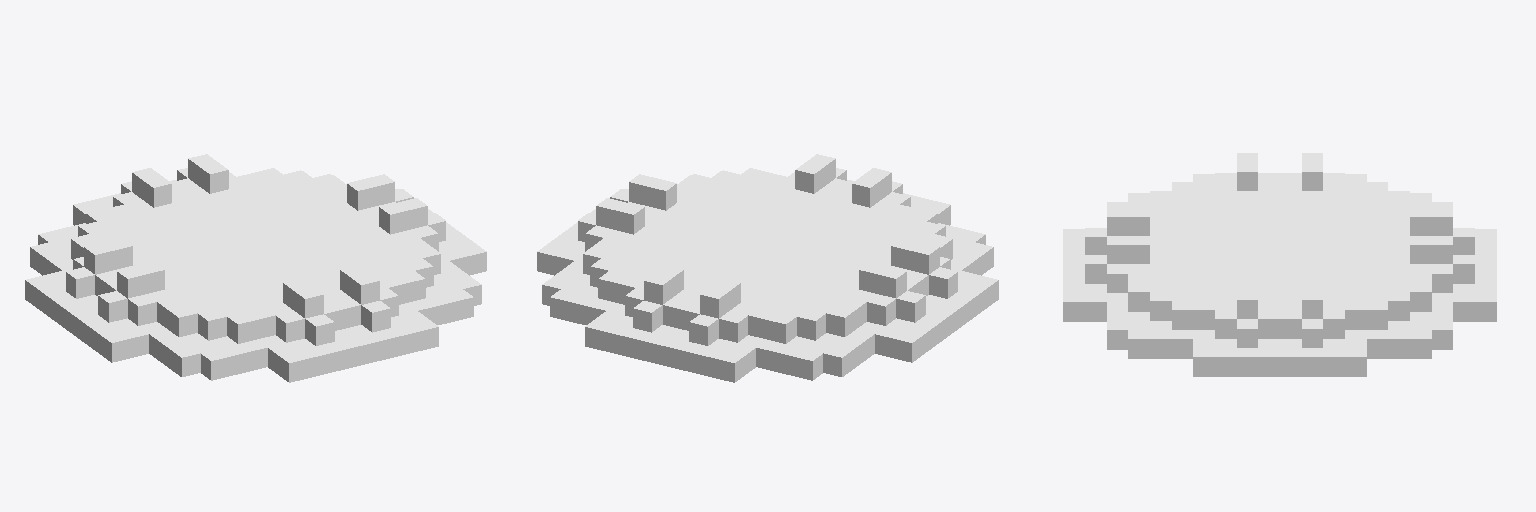
Rendered from SpawnPad.obj.
The picture shows the model from 3 angles: view 1: azimuth 30°, elevation 25°; view 2: azimuth 150°, elevation 25°; view 3: azimuth 270°, elevation 25°; orthographic projection.
Parts seen in each view (by area): view 1: object 1; view 2: object 1; view 3: object 1.
Part boxes in pixels (bbox=[...]): object 1: bbox=[25, 154, 486, 382]; object 1: bbox=[537, 154, 998, 382]; object 1: bbox=[1063, 153, 1496, 376].
Size of the model in its own units: 2 by 0.3 by 2.